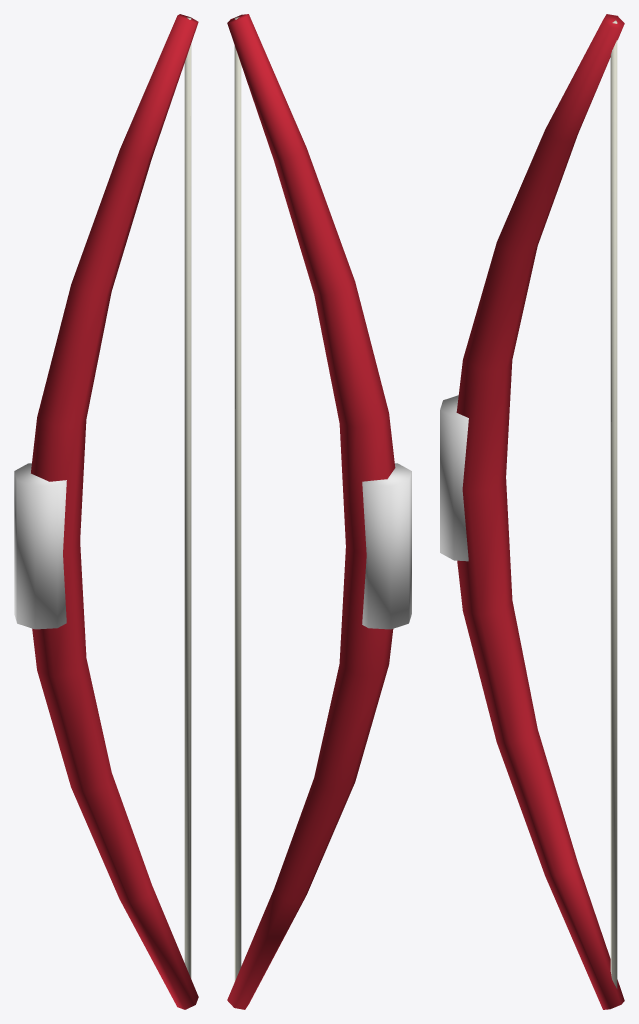
The model's file is adamantite_bow.glb.
3 views of the same model, side by side, from view 1: azimuth 30°, elevation 25°; view 2: azimuth 150°, elevation 25°; view 3: azimuth 330°, elevation 25° (orthographic).
Visible parts, largest first — view 1: crimsite_bow_v0; view 2: crimsite_bow_v0; view 3: crimsite_bow_v0.
Boxes of the visible parts, x1,y1,x2,y2 form: crimsite_bow_v0: (14,14,198,1009); crimsite_bow_v0: (227,14,411,1009); crimsite_bow_v0: (440,14,624,1009).
Bounding box in the file's own units: 0.2105 × 1.11 × 0.06.
